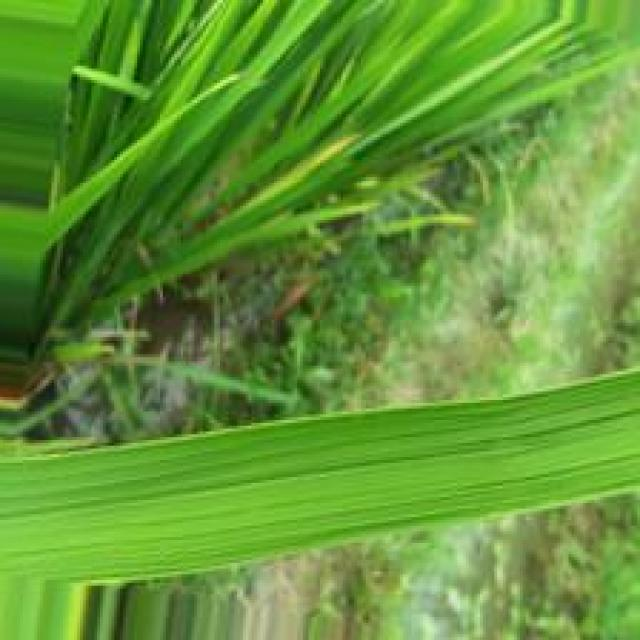HealthyLeaf: (0, 371, 640, 586)
